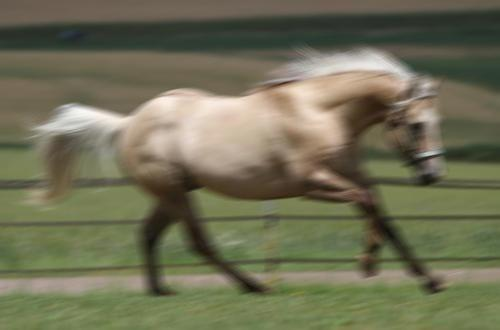horse: (17, 41, 450, 298)
